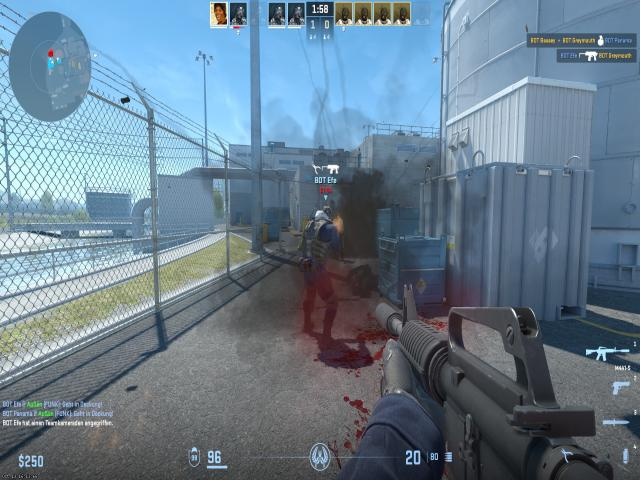CT: (307, 204, 334, 342)
CT-Head: (316, 207, 331, 223)
Dead: (356, 262, 379, 299)
T: (332, 213, 347, 257)
T-Head: (334, 213, 340, 220)
